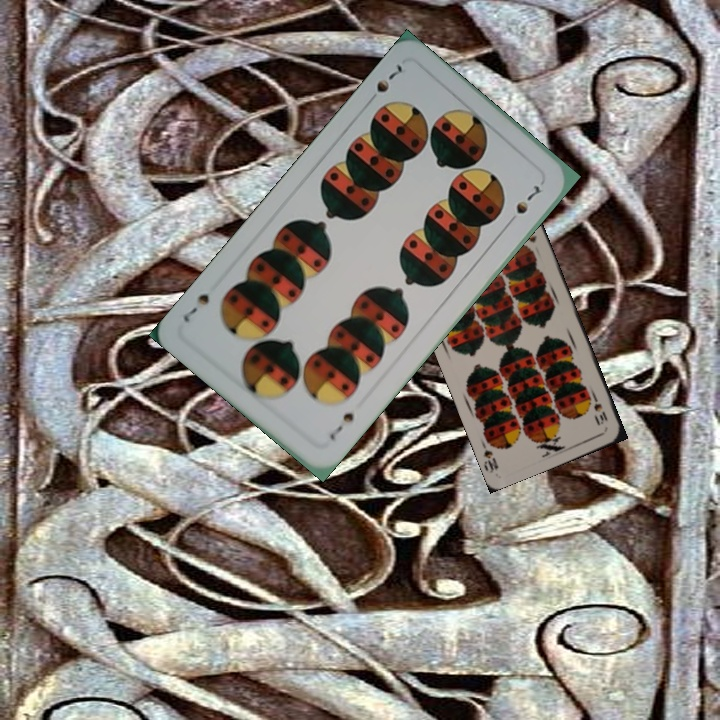S10: (588, 390, 610, 428)
S7: (363, 59, 405, 107), (325, 408, 357, 443)
